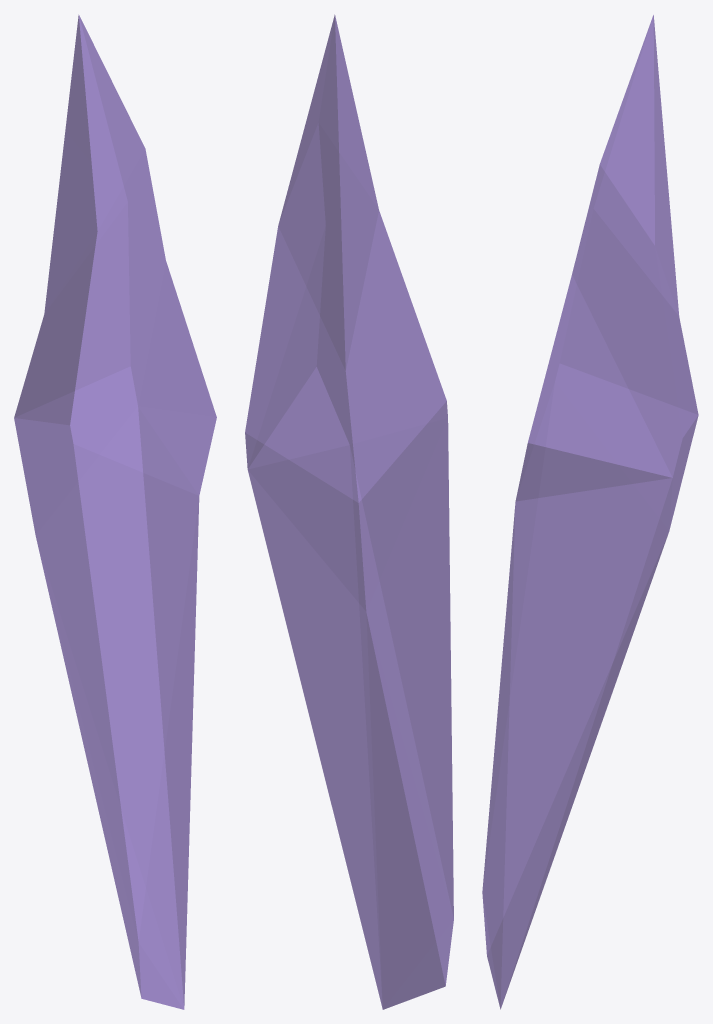
File: Prop_Crystal_Singular_Purple_05.fbx
3 renders of one model, left to right at view 1: azimuth 30°, elevation 25°; view 2: azimuth 150°, elevation 25°; view 3: azimuth 270°, elevation 25°, orthographic. The views are drawn at different scales.
Parts seen in each view (by area): view 1: Prop_Crystal_Singular_Purple_05; view 2: Prop_Crystal_Singular_Purple_05; view 3: Prop_Crystal_Singular_Purple_05.
Part boxes in pixels (x1,y1,x2,y2): Prop_Crystal_Singular_Purple_05: (14,14,216,1009); Prop_Crystal_Singular_Purple_05: (245,14,453,1009); Prop_Crystal_Singular_Purple_05: (482,15,698,1009).
Size of the model in its own units: 11.19 by 77.24 by 15.45.
